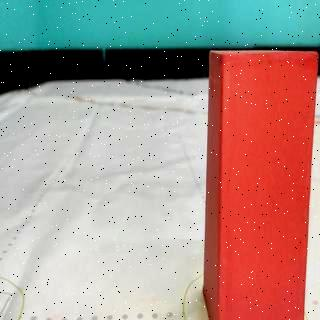redbox: (202, 49, 318, 320)
